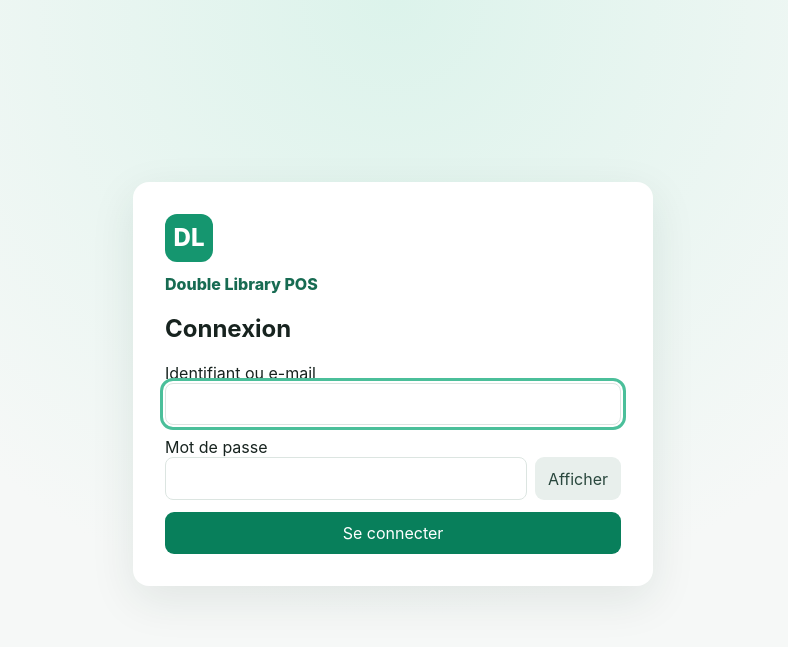
Scenario: authentification navigateur › affiche une erreur sûre et visible
The width and height of the screenshot is (788, 647).
Step 1. Type "responsable" into the field labelled "Identifiant ou e-mail" → coordinates (393, 404), box [165,383,621,425]
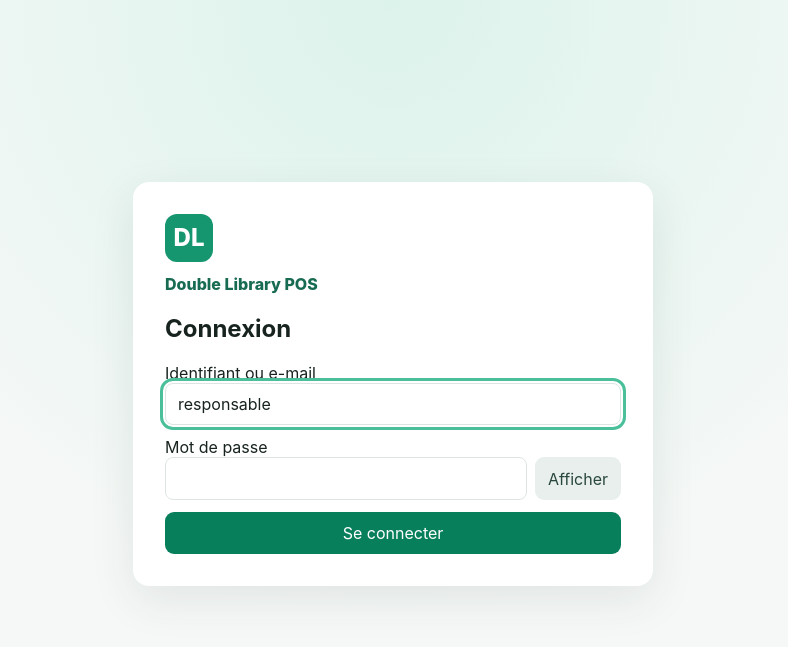
Step 2. Type "secret" into the password field labelled "Mot de passe" → coordinates (346, 479), box [165,457,527,500]
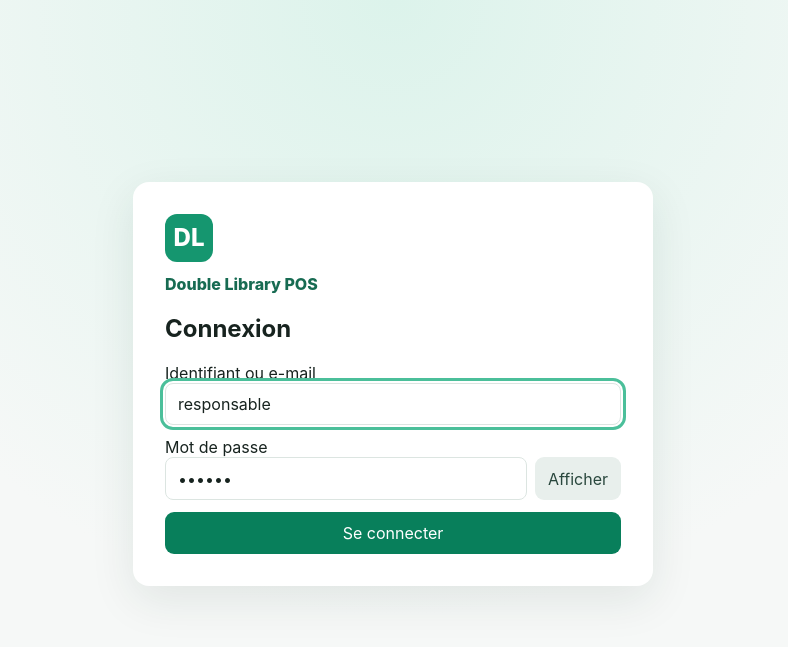
Step 3. Submit the form "Se connecter", box [165,363,621,554]
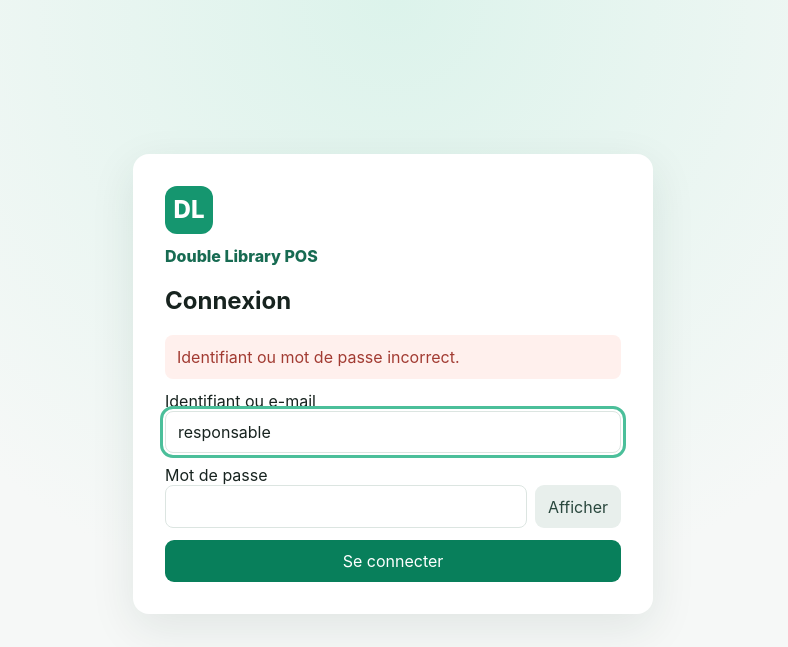
Expected: the text "Identifiant ou mot de passe incorrect." is shown, [165,335,621,379]
